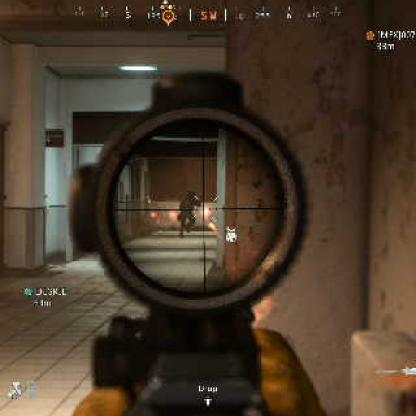enemy: (174, 190, 203, 234)
